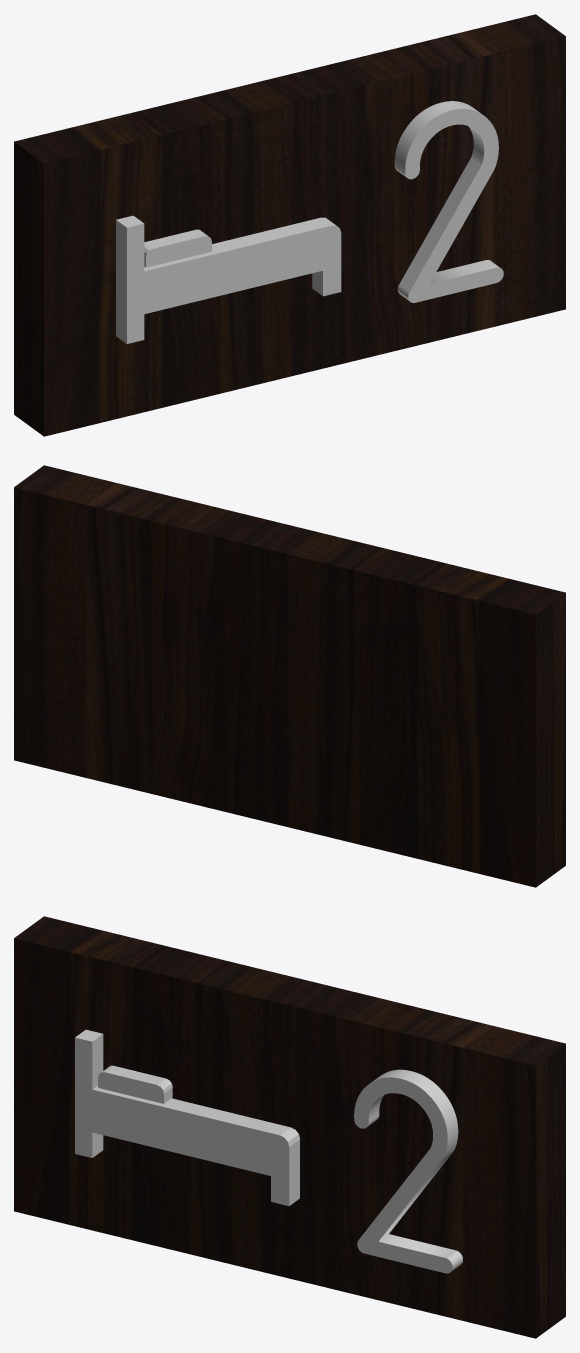
File: Bed 2.fbx
The picture shows the model from 3 angles, top to bottom: view 1: azimuth 30°, elevation 25°; view 2: azimuth 150°, elevation 25°; view 3: azimuth 330°, elevation 25°; orthographic projection.
Parts seen in each view (by area): view 1: Base, Cube, Text; view 2: Base; view 3: Base, Cube, Text.
Boxes of the visible parts, x1=… form: Base: x1=14, y1=14, x2=565, y2=436; Cube: x1=116, y1=215, x2=341, y2=343; Text: x1=394, y1=101, x2=503, y2=302; Base: x1=14, y1=465, x2=565, y2=887; Base: x1=14, y1=916, x2=565, y2=1338; Cube: x1=75, y1=1029, x2=299, y2=1205; Text: x1=354, y1=1069, x2=462, y2=1273.
Size of the model in its own units: 200 by 100 by 27.26.
